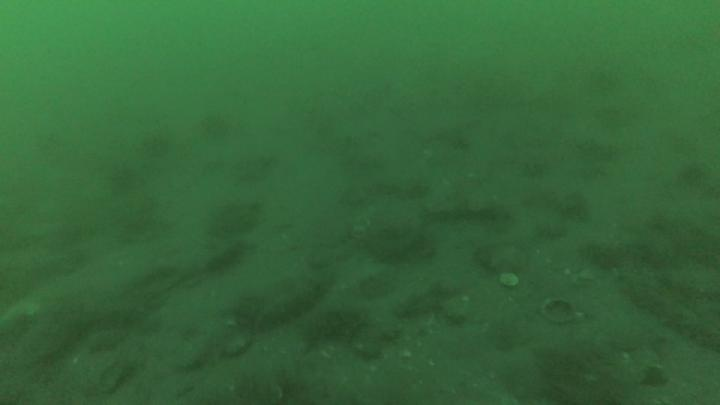holothurian: (233, 276, 326, 333), (299, 304, 369, 349)
